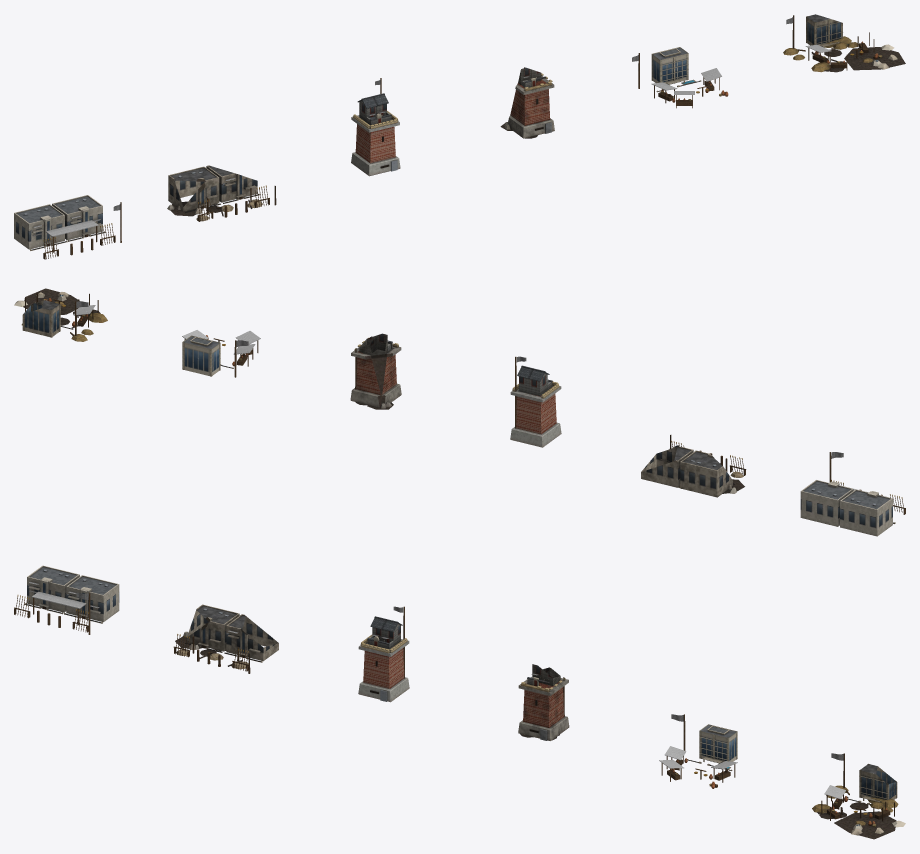
Rendered from rts-modern-sinic.glb.
3 views of the same model, one above another, from view 1: azimuth 30°, elevation 25°; view 2: azimuth 150°, elevation 25°; view 3: azimuth 330°, elevation 25° (orthographic). The views are drawn at different scales.
Parts seen in each view (by area): view 1: LOD0, LOD0.001, LOD0.005, LOD0.002, LOD0.003, LOD0.004; view 2: LOD0, LOD0.001, LOD0.002, LOD0.003, LOD0.005, LOD0.004; view 3: LOD0, LOD0.001, LOD0.005, LOD0.002, LOD0.003, LOD0.004.
Part boxes in pixels (<box>): LOD0: <box>14,195,121,259</box>; LOD0.001: <box>167,165,276,221</box>; LOD0.005: <box>783,14,905,72</box>; LOD0.002: <box>351,78,400,176</box>; LOD0.003: <box>500,67,554,138</box>; LOD0.004: <box>632,47,728,108</box>; LOD0: <box>800,452,905,536</box>; LOD0.001: <box>641,435,746,497</box>; LOD0.002: <box>510,356,561,447</box>; LOD0.003: <box>350,333,401,409</box>; LOD0.005: <box>14,288,107,341</box>; LOD0.004: <box>182,330,260,377</box>; LOD0: <box>14,565,119,634</box>; LOD0.001: <box>173,604,278,673</box>; LOD0.005: <box>812,753,905,839</box>; LOD0.002: <box>358,606,409,702</box>; LOD0.003: <box>518,664,569,740</box>; LOD0.004: <box>659,714,737,788</box>.
Size of what is drawn, in the model's own units: 16.65 by 1.48 by 1.58.
Materials: 2 (2 with a texture image).
